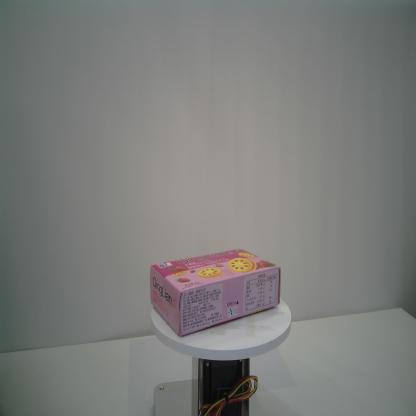Dessert: (150, 249, 281, 337)
